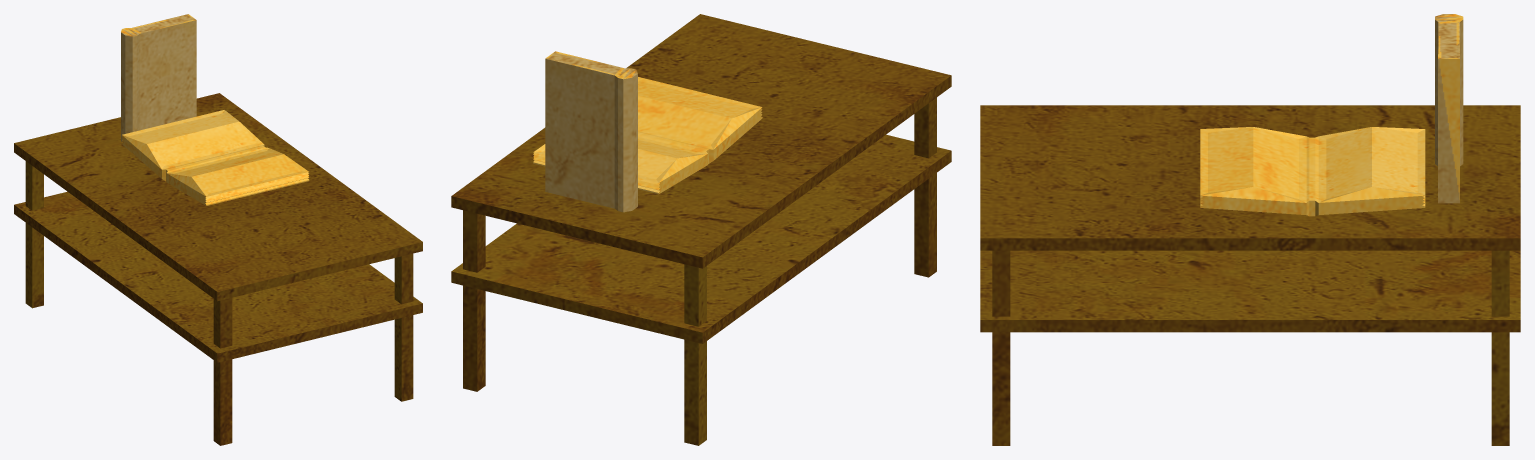
File: Lesen.fbx
3 renders of one model, left to right at view 1: azimuth 30°, elevation 25°; view 2: azimuth 150°, elevation 25°; view 3: azimuth 270°, elevation 25°, orthographic. The views are drawn at different scales.
Parts seen in each view (by area): view 1: Tisch; view 2: Tisch; view 3: Tisch.
Boxes of the visible parts, left/top/right/bottom form: Tisch: left=14, top=14, right=422, bottom=445; Tisch: left=451, top=14, right=951, bottom=445; Tisch: left=980, top=14, right=1520, bottom=445.
Size of the model in its own units: 70 by 87.16 by 120.
